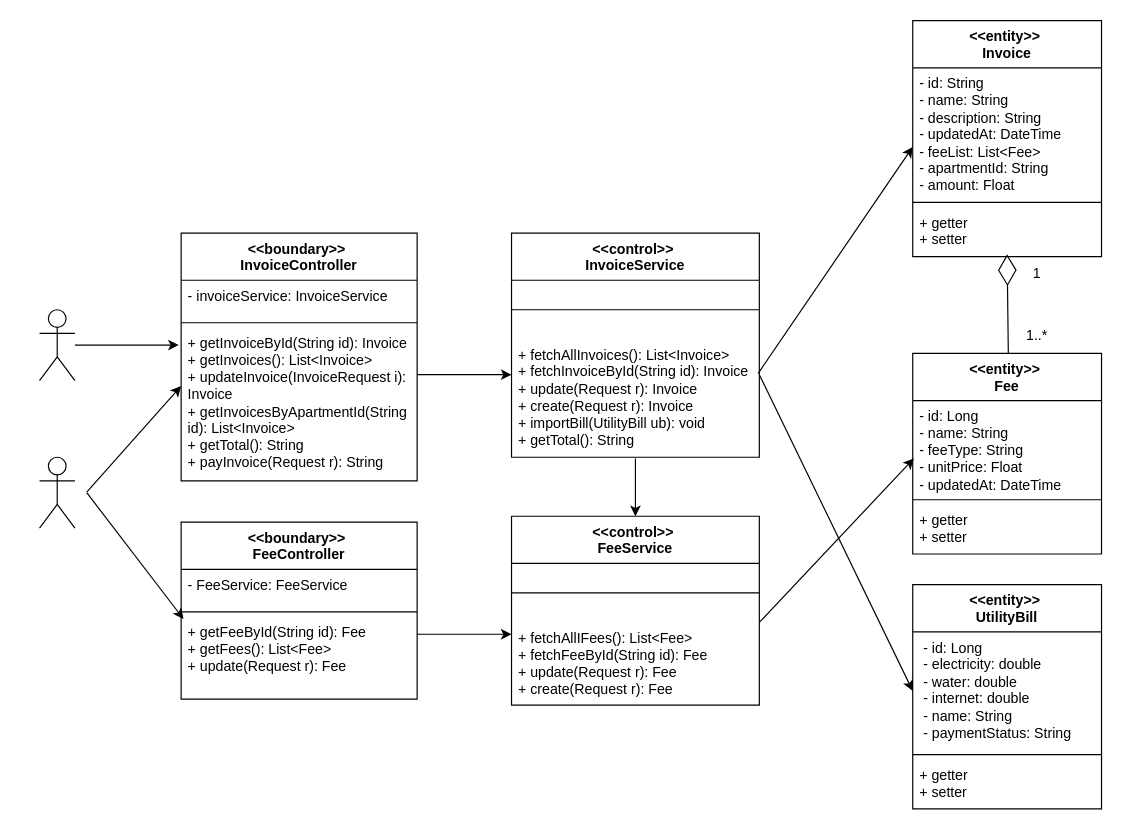
This 1122x833 diagram has some shape labels left out. The shapes that lost their labels are listed below. From the top down, each one's centre as x and y in pixels, then its label:
the point at 56,345: Cư dân
the point at 56,492: Ban quản lý
